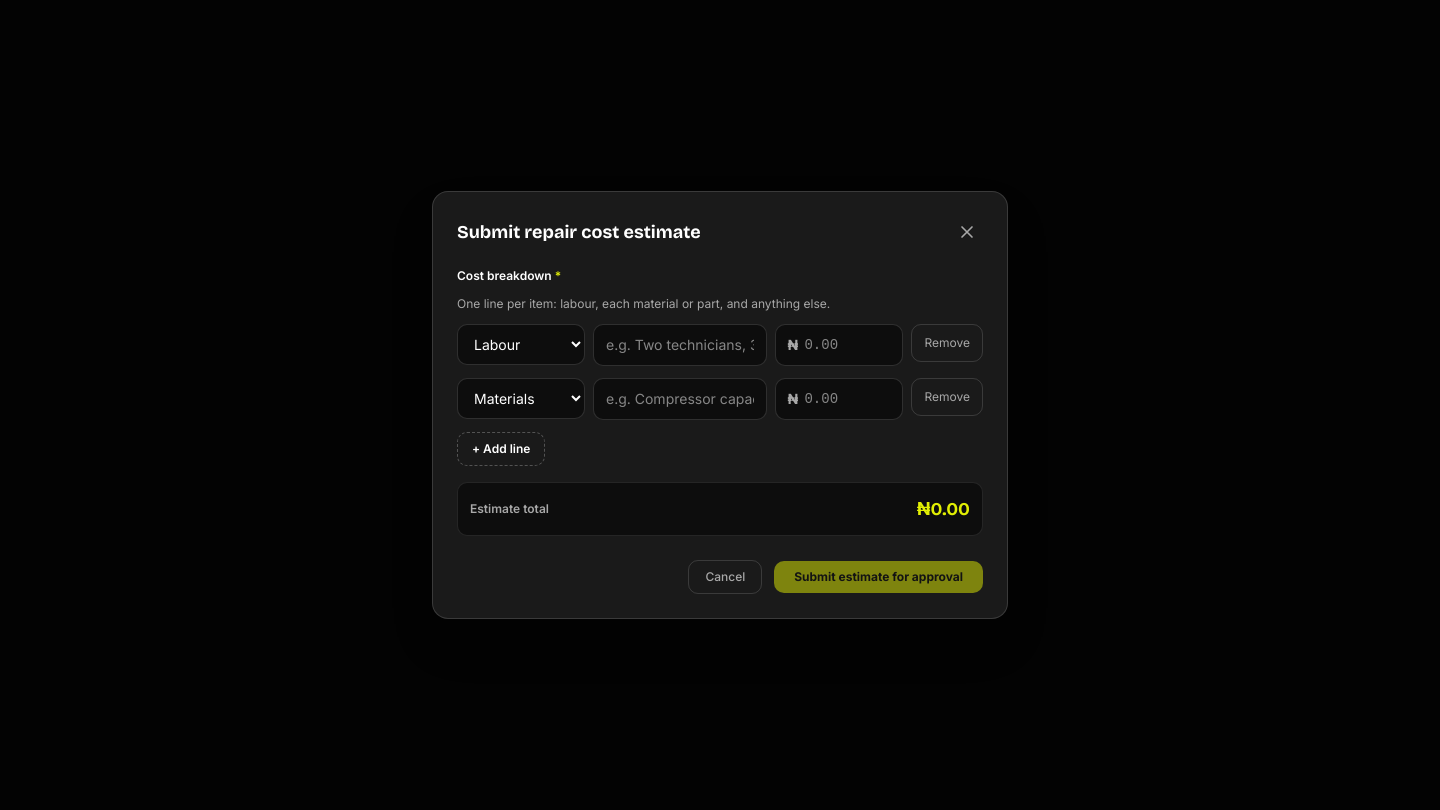
Test: SubmitEstimateModal cost breakdown › refuses a line without a description or a valid amount, and sends nothing
Type "Labour" into the field named "Line 1 description" at (680,345), box [593, 324, 768, 366]
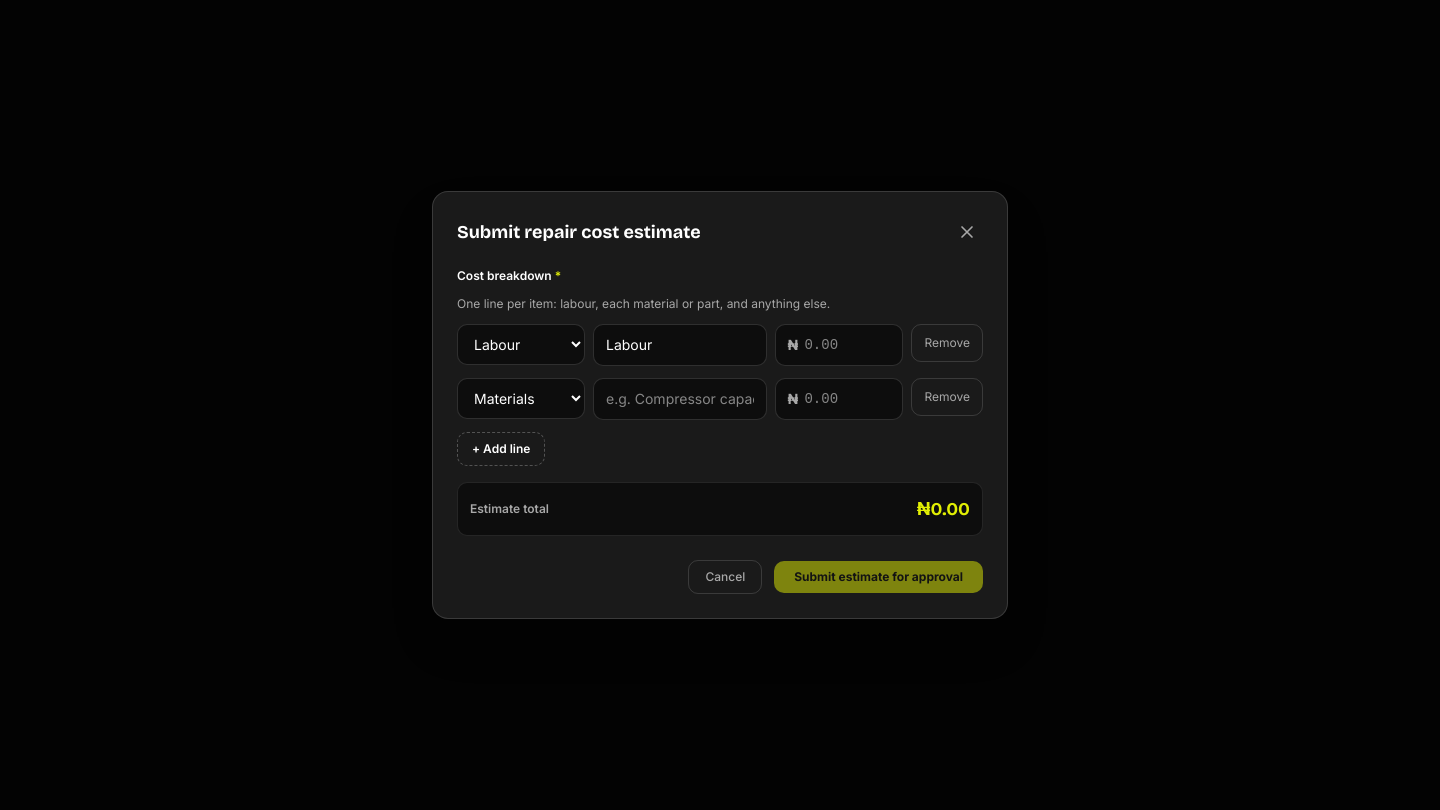
Type "1000" into the field named "Line 1 amount in naira" at (840,345), box [776, 324, 904, 366]
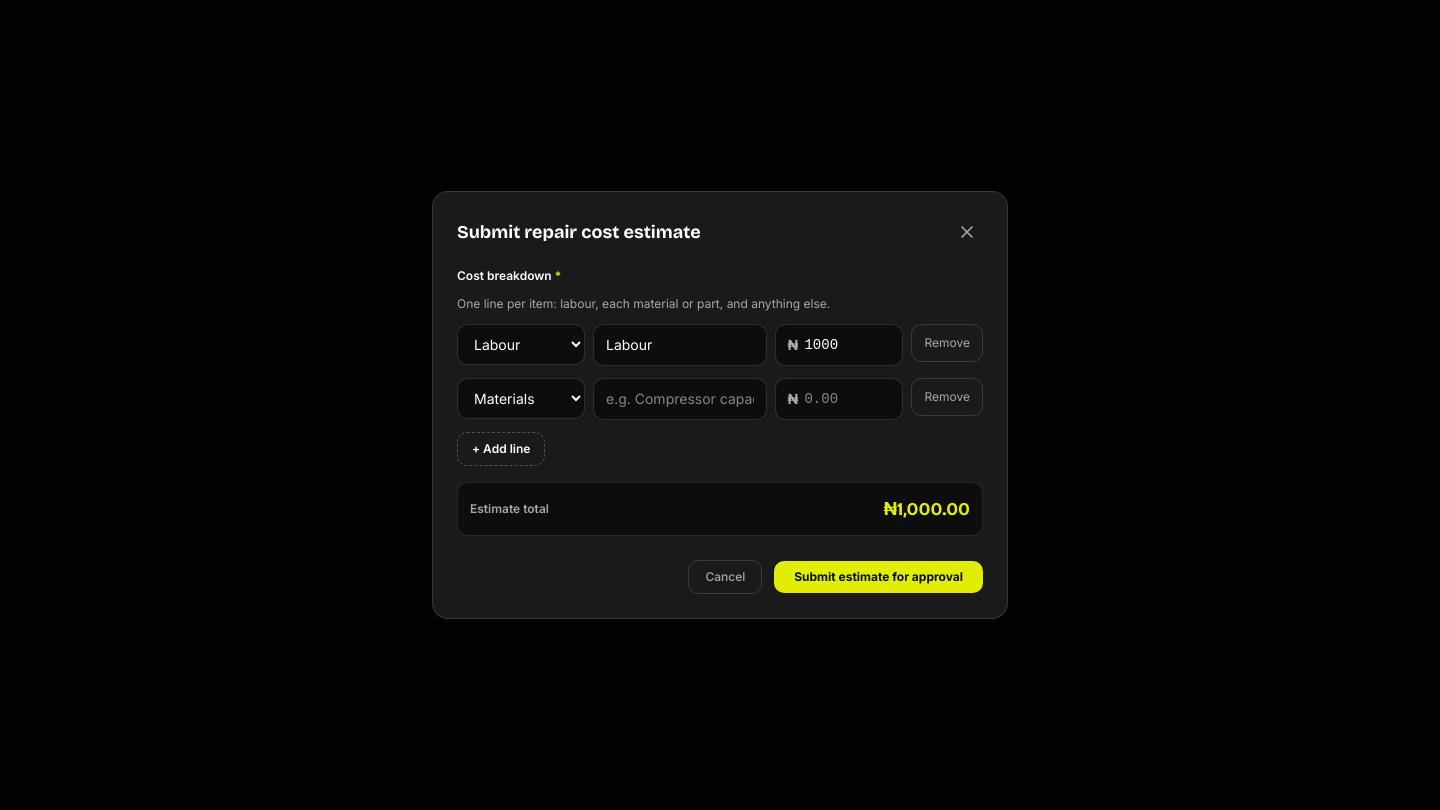
Type "12.345" into the field named "Line 2 amount in naira" at (840,399), box [776, 378, 904, 420]
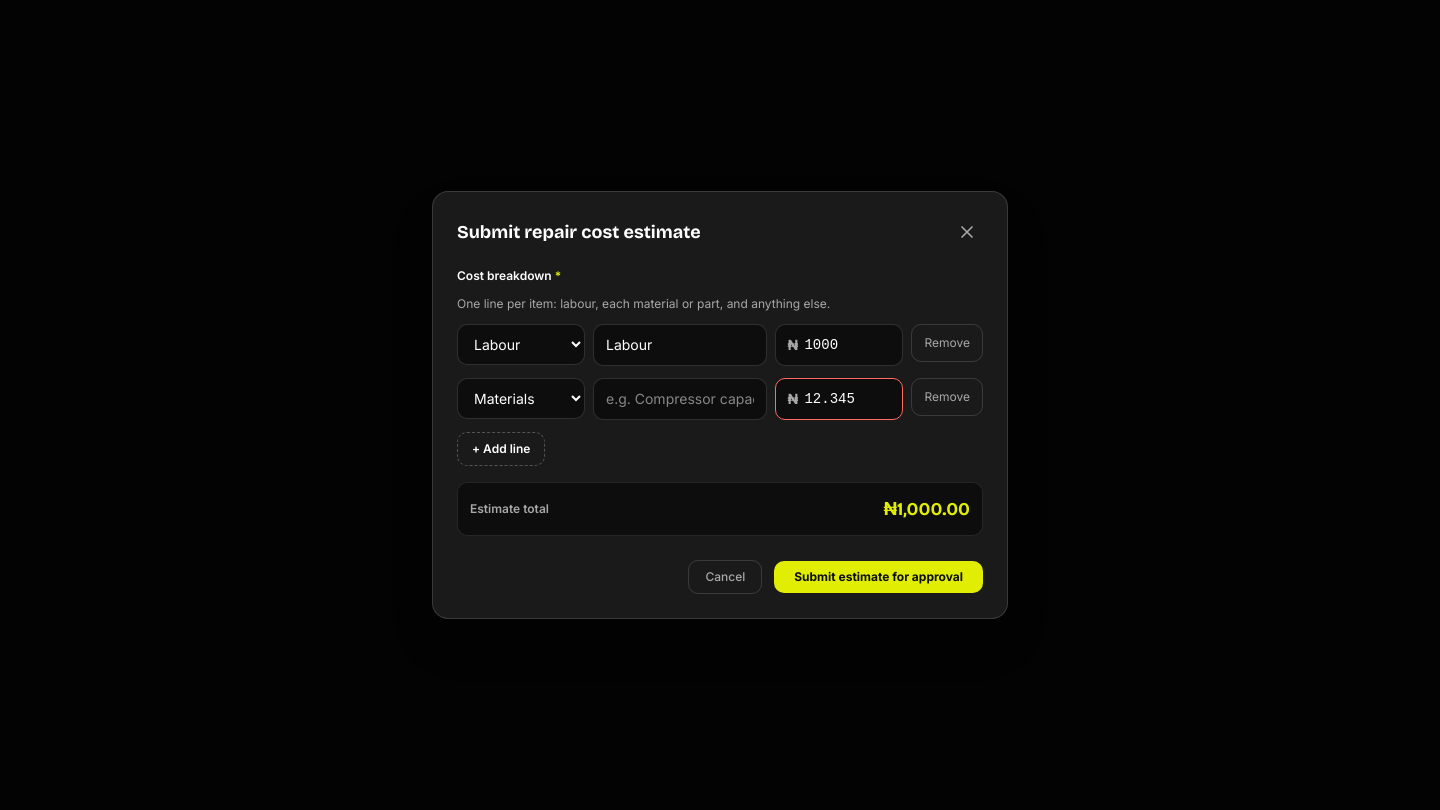
Click the button "Submit estimate for approval" at (879,577), box [774, 561, 983, 593]
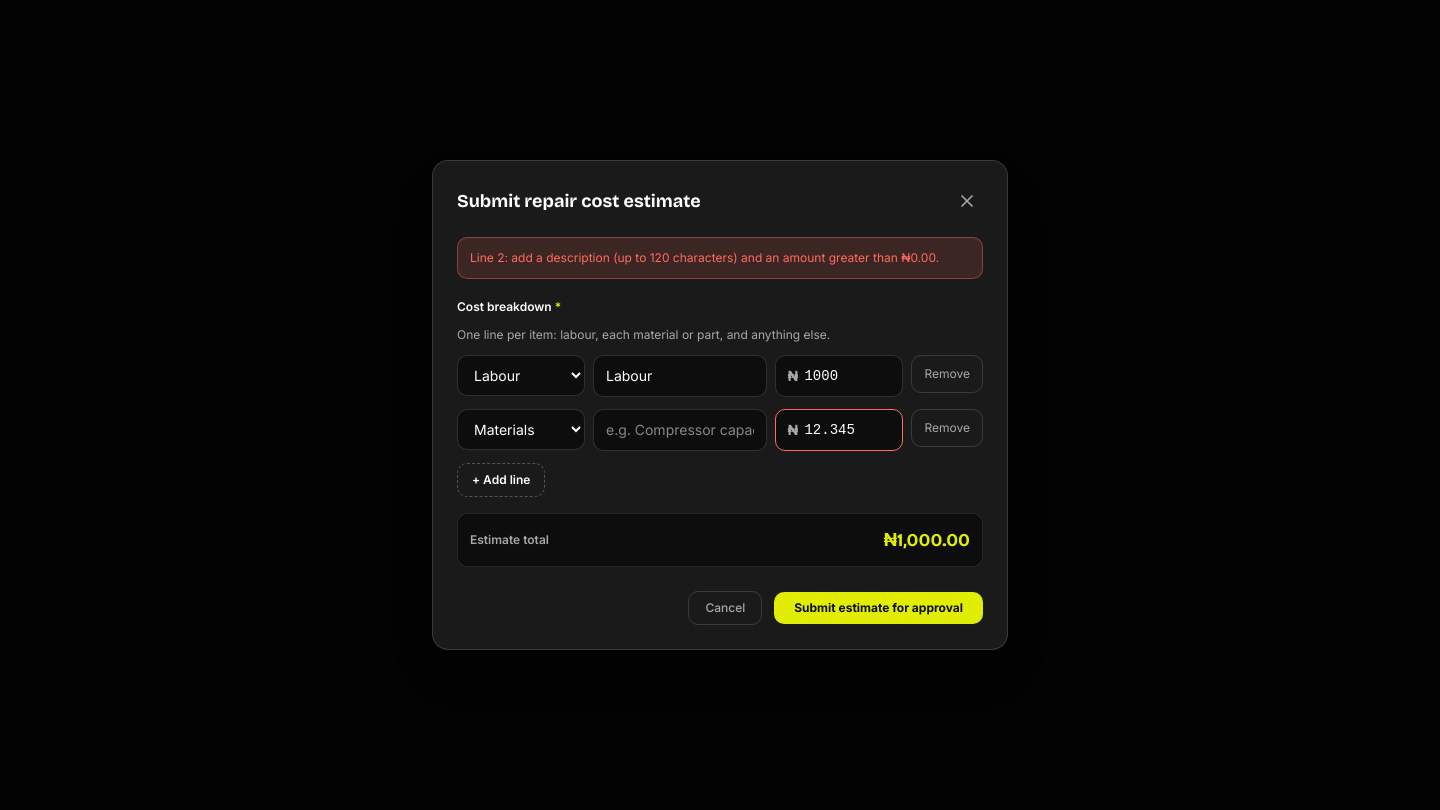
Expected: the message shows "Line 2", [470, 250, 939, 265]
